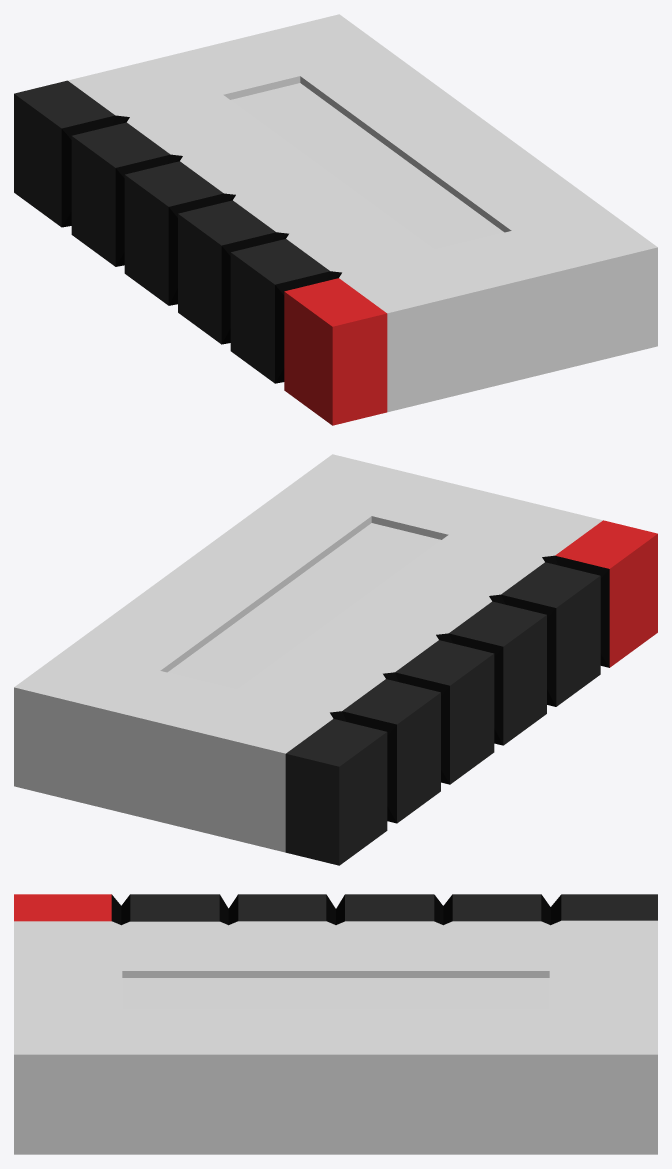
File: casset.fbx
The picture shows the model from 3 angles, top to bottom: view 1: azimuth 30°, elevation 25°; view 2: azimuth 150°, elevation 25°; view 3: azimuth 270°, elevation 25°; orthographic projection.
Visible parts, largest first — view 1: Cube.001; view 2: Cube.001; view 3: Cube.001.
Boxes of the visible parts, x1,y1,x2,y2 form: Cube.001: (14, 14, 657, 425); Cube.001: (14, 454, 657, 865); Cube.001: (14, 894, 657, 1154).
Bounding box in the file's own units: 24.89 × 7.23 × 42.19.
